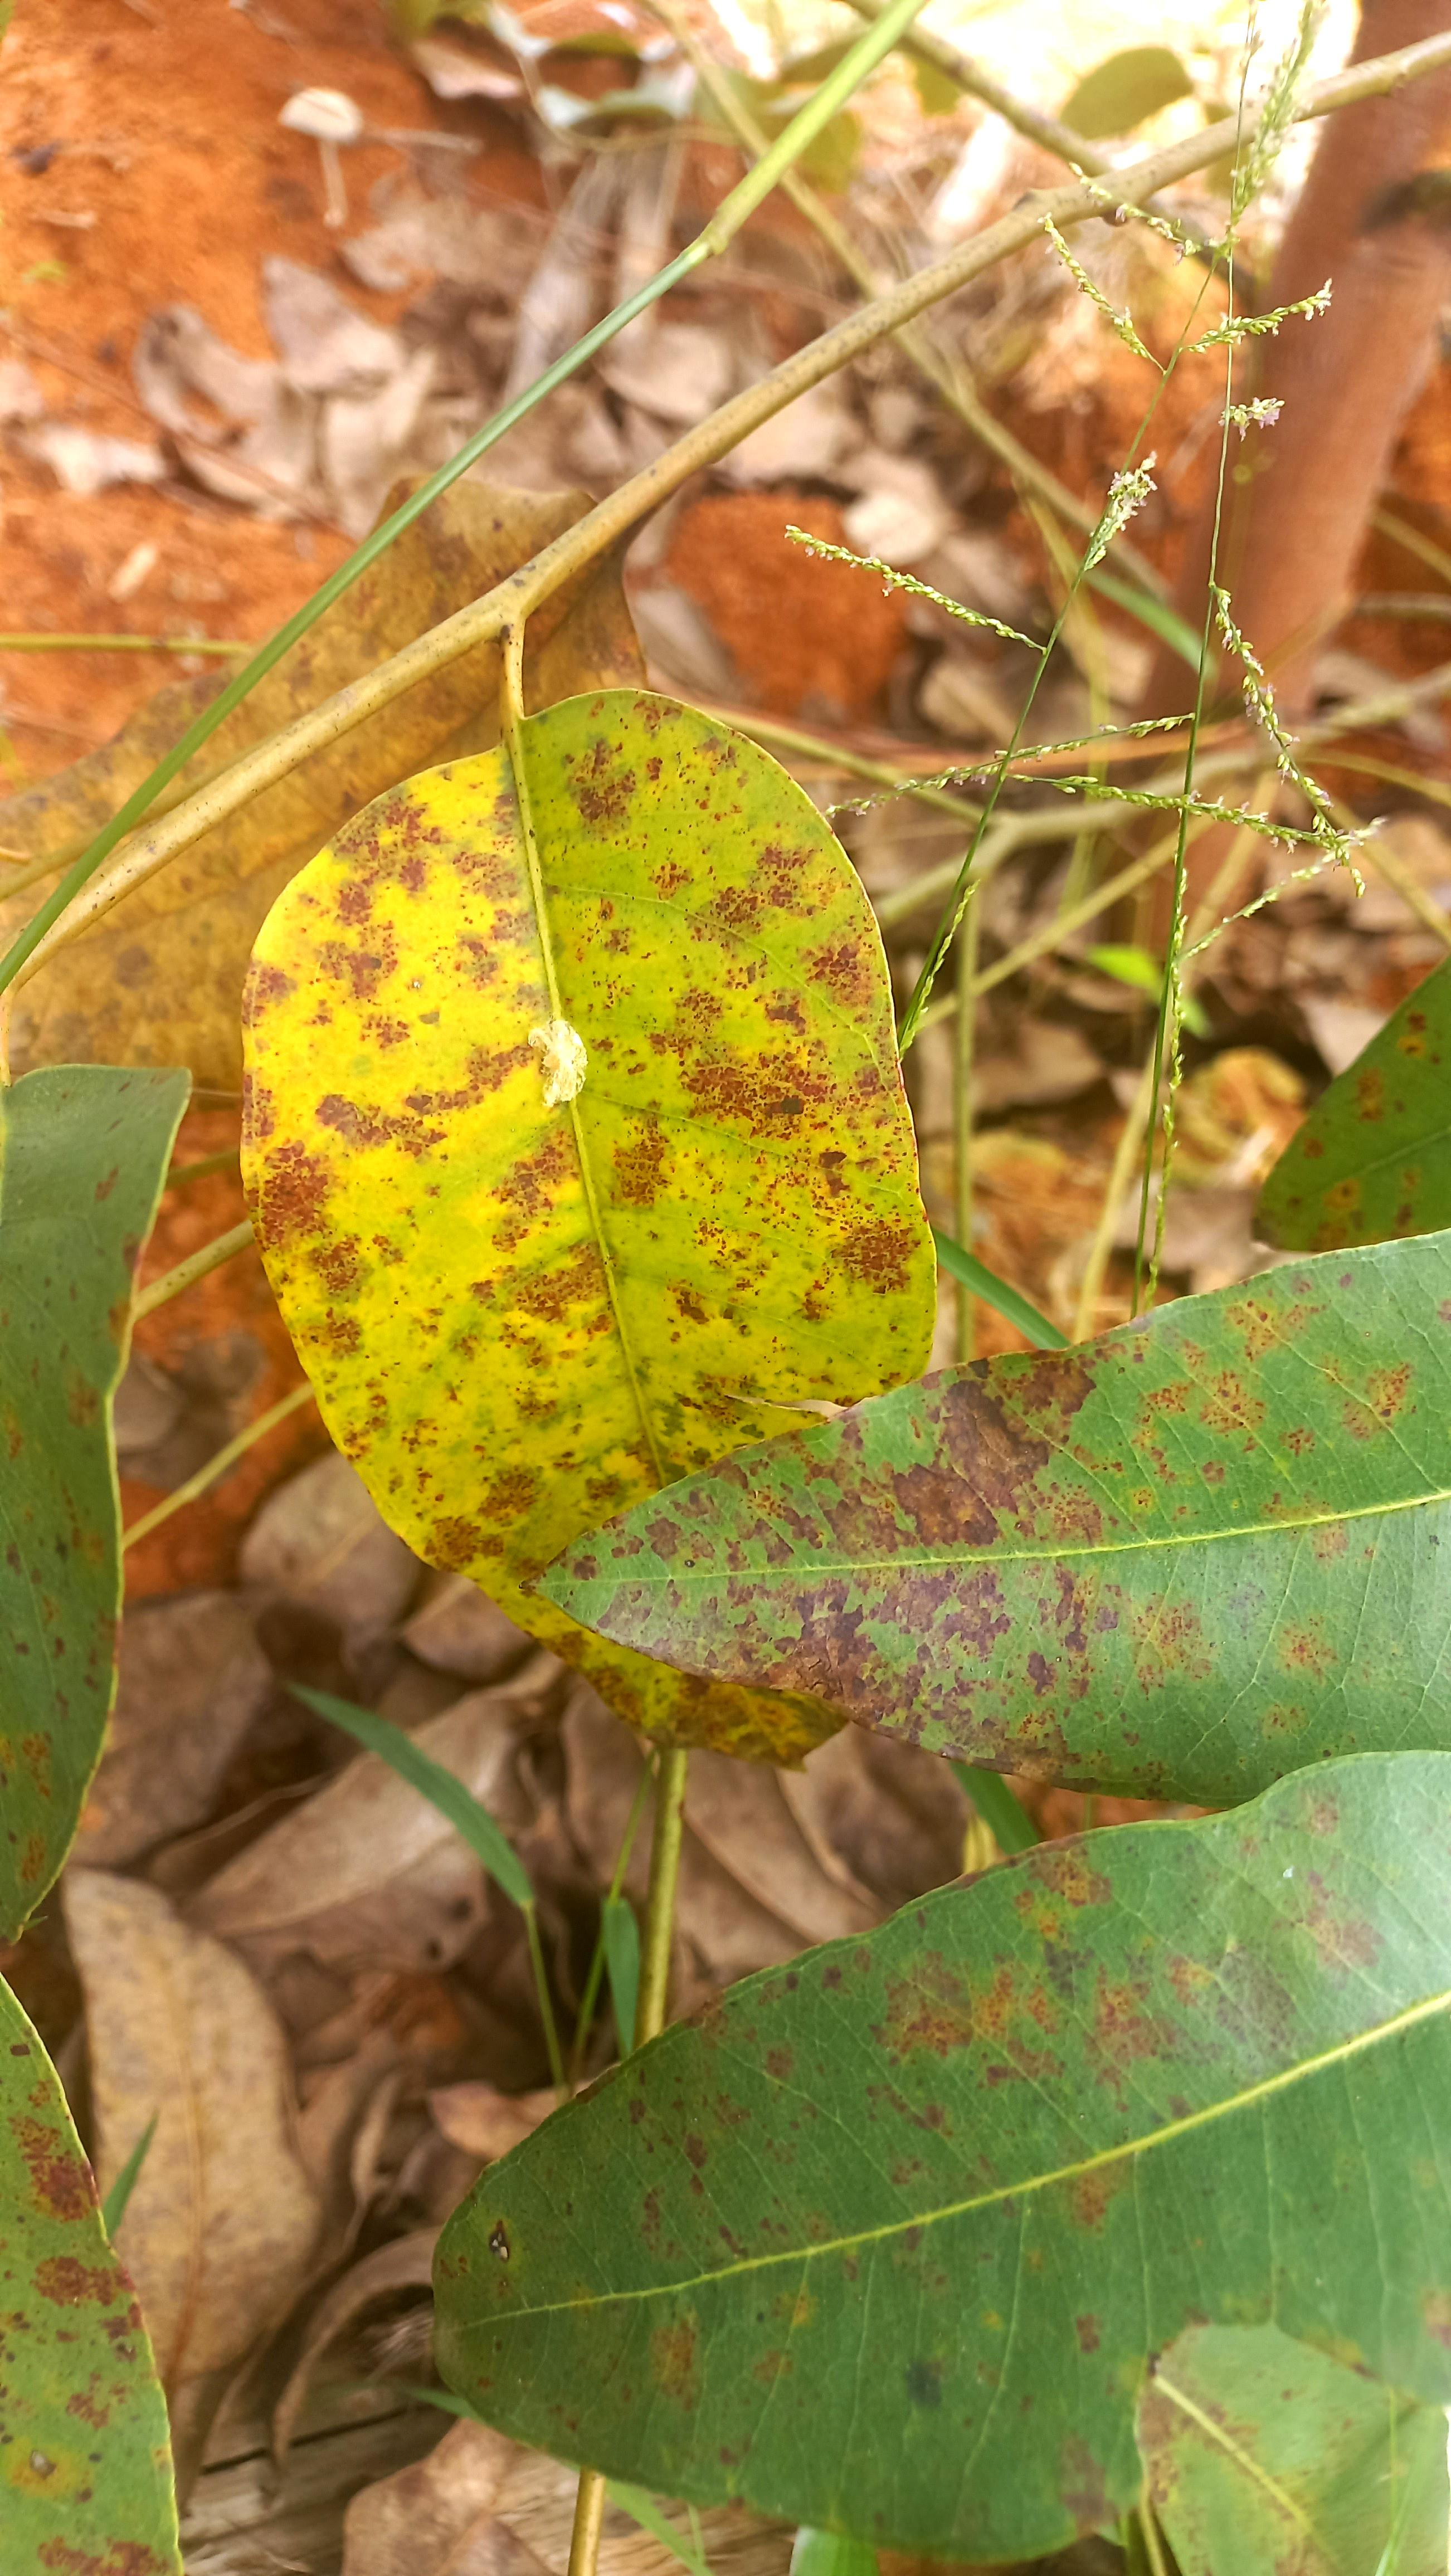Xanthomonas: (241, 692, 1451, 1734), (441, 1762, 1451, 2576)
